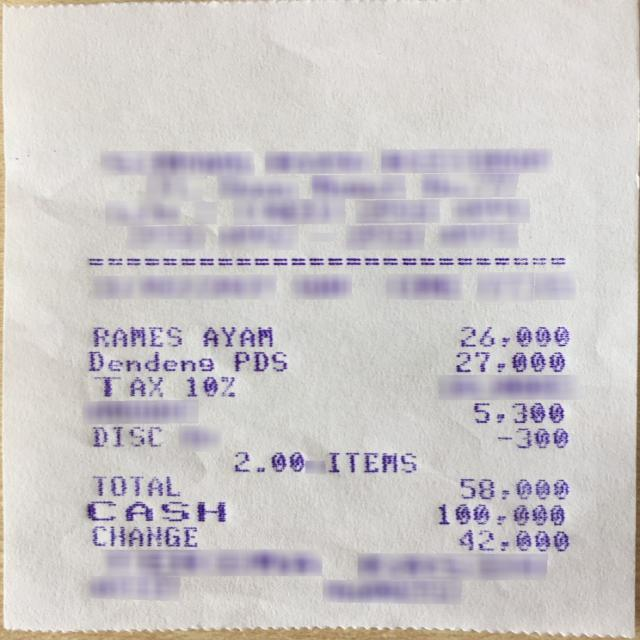text: (84, 501, 224, 522), (436, 503, 564, 525), (88, 351, 212, 371), (457, 324, 568, 346), (454, 351, 564, 372), (458, 478, 567, 499), (90, 526, 196, 547), (456, 530, 567, 550), (472, 402, 563, 422), (92, 326, 180, 346), (327, 452, 414, 472), (92, 476, 178, 496), (496, 427, 565, 448), (234, 451, 303, 472), (202, 326, 272, 346), (91, 426, 160, 446), (93, 376, 161, 395), (233, 351, 285, 370), (184, 376, 233, 395)
